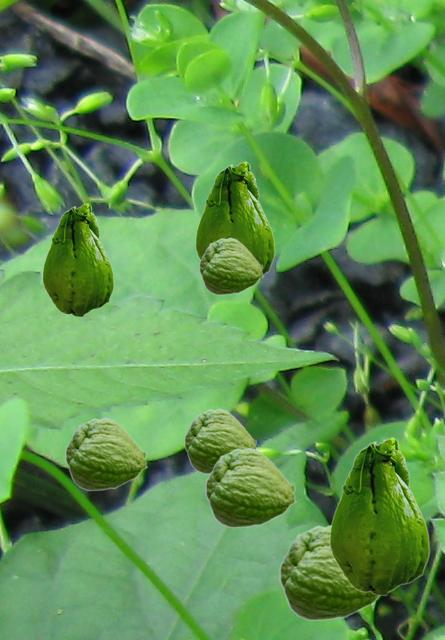sayote: (329, 437, 429, 595), (279, 524, 380, 620), (195, 161, 274, 275), (42, 203, 113, 316), (205, 447, 296, 527), (65, 417, 147, 490), (184, 408, 257, 473), (199, 237, 263, 294)
